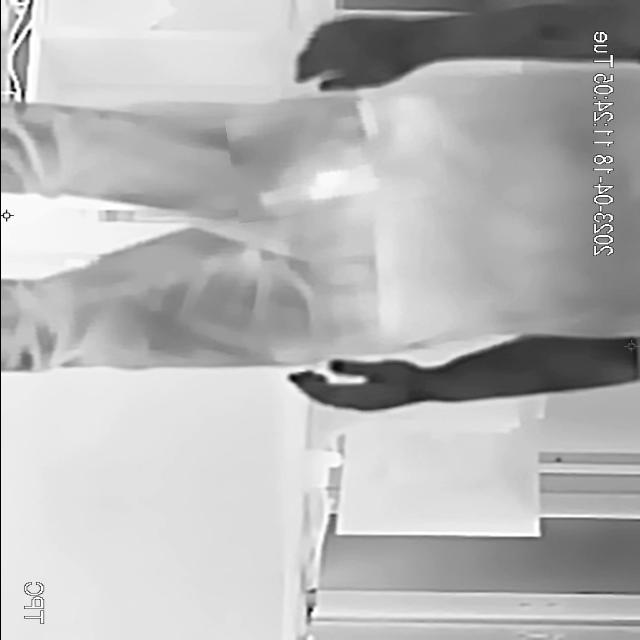Weapon: (227, 98, 445, 217)
